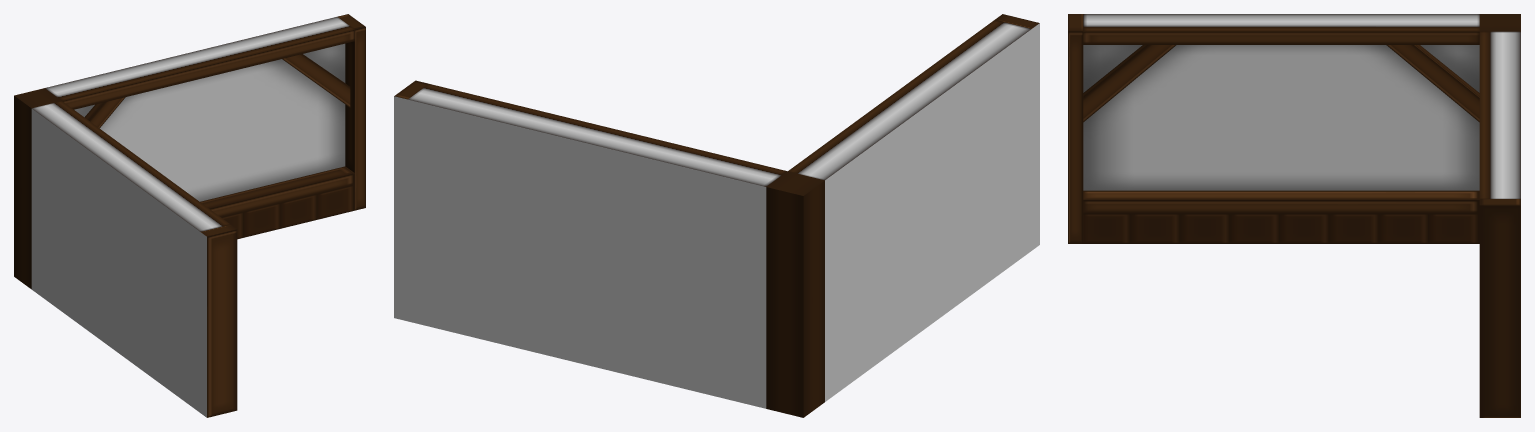
File: wall_1.FBX
3 renders of one model, left to right at view 1: azimuth 30°, elevation 25°; view 2: azimuth 150°, elevation 25°; view 3: azimuth 270°, elevation 25°, orthographic. The views are drawn at different scales.
Parts seen in each view (by area): view 1: Object012; view 2: Object012; view 3: Object012.
Part boxes in pixels (x1,y1,x2,y2): Object012: (14, 14, 365, 417); Object012: (394, 14, 1039, 417); Object012: (1068, 14, 1520, 417).
Bounding box in the file's own units: 11 × 5.7 × 11.
